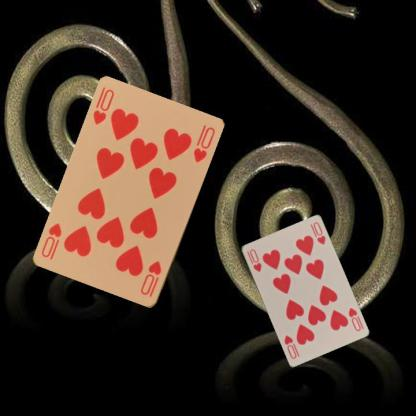10h: (90, 87, 116, 127), (138, 258, 163, 298), (346, 305, 362, 333), (247, 246, 262, 273)
